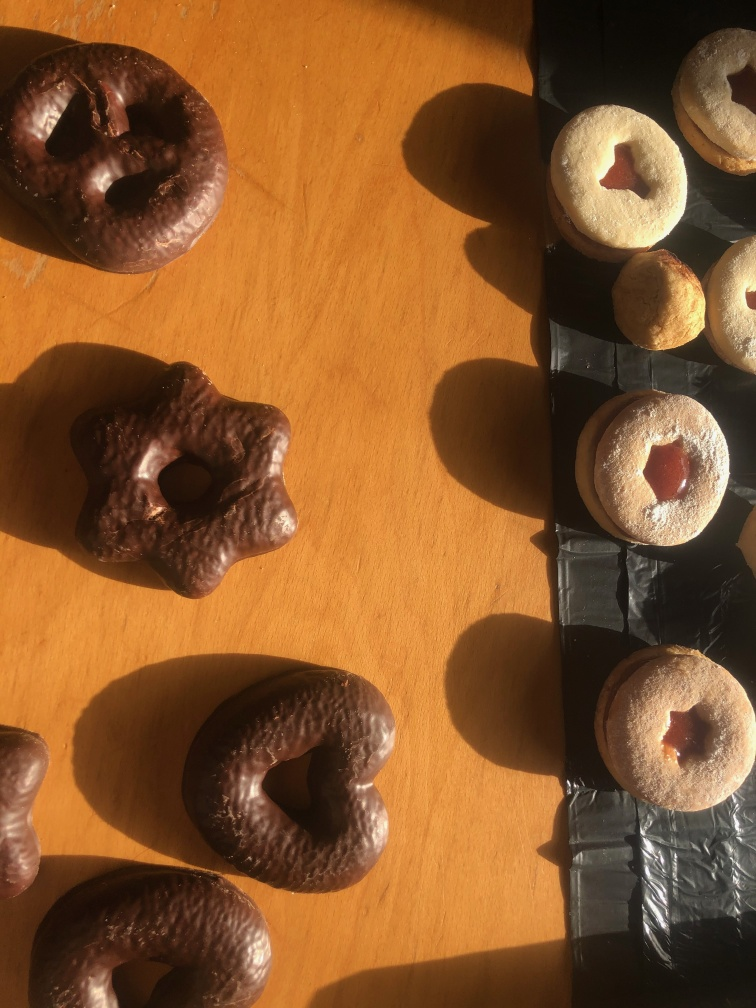bretzel: (4, 37, 232, 283)
christmas shortbread with jam: (593, 635, 756, 819), (571, 383, 732, 550), (549, 94, 683, 266), (675, 21, 756, 176)
heart: (182, 659, 397, 896), (21, 860, 273, 1007)
snowball: (613, 246, 709, 352)
star: (60, 357, 304, 604)
